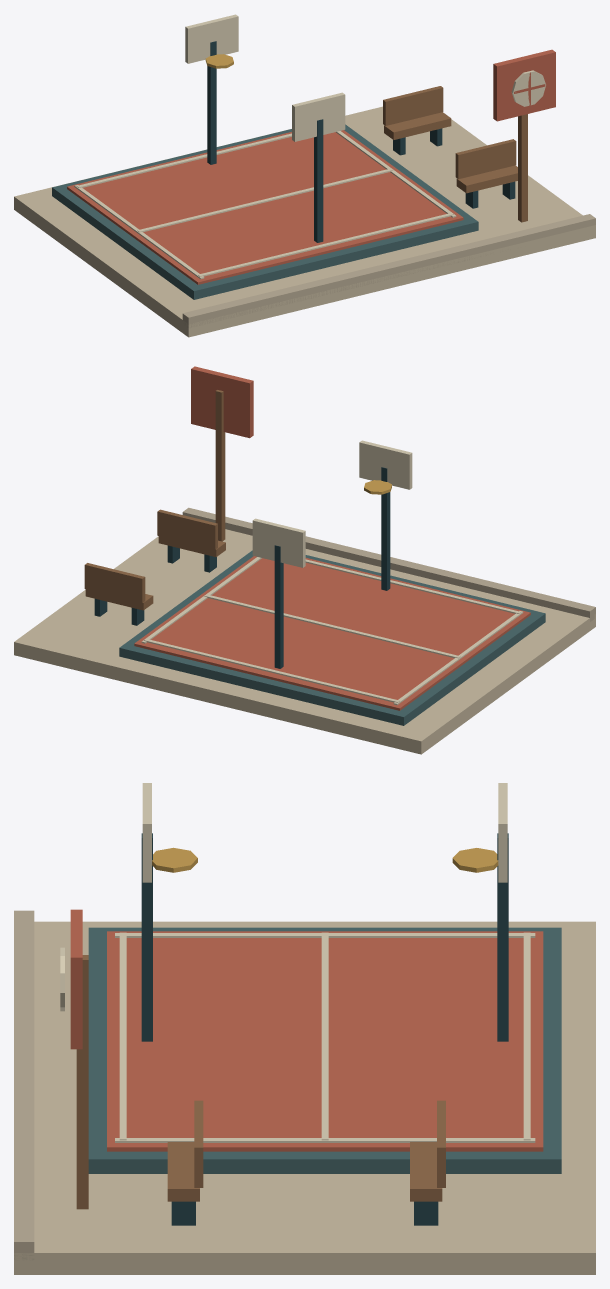
Rendered from sports-park-sunrise-complete.glb.
3 renders of one model, top to bottom at view 1: azimuth 30°, elevation 25°; view 2: azimuth 150°, elevation 25°; view 3: azimuth 270°, elevation 25°, orthographic. The views are drawn at different scales.
Parts seen in each view (by area): view 1: sports-park; view 2: sports-park; view 3: sports-park.
Boxes of the visible parts, x1=… form: sports-park: x1=14, y1=14, x2=595, y2=337; sports-park: x1=14, y1=366, x2=595, y2=754; sports-park: x1=14, y1=783, x2=595, y2=1274.
Bounding box in the file's own units: 3.88 × 1.63 × 2.88.
